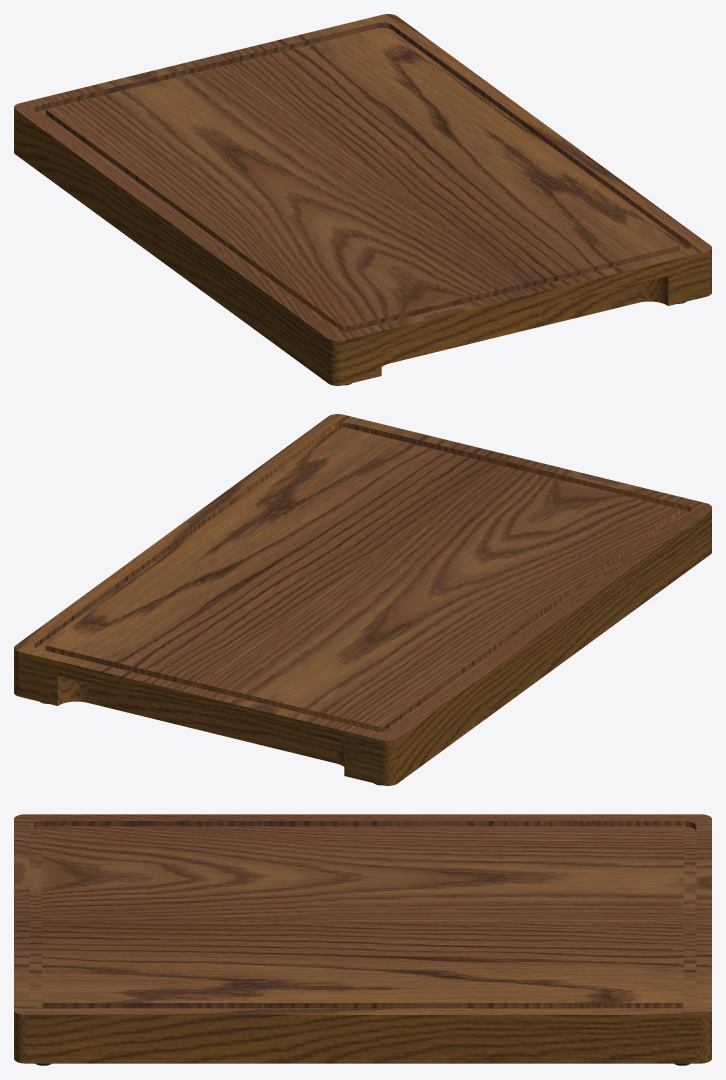
The model's file is tabla-de-picar-teca-talla-l.glb.
3 renders of one model, top to bottom at view 1: azimuth 30°, elevation 25°; view 2: azimuth 150°, elevation 25°; view 3: azimuth 270°, elevation 25°, orthographic. The views are drawn at different scales.
Bounding box in the file's own units: 0.4 × 0.055 × 0.5874.
4 materials, 3 textured.
